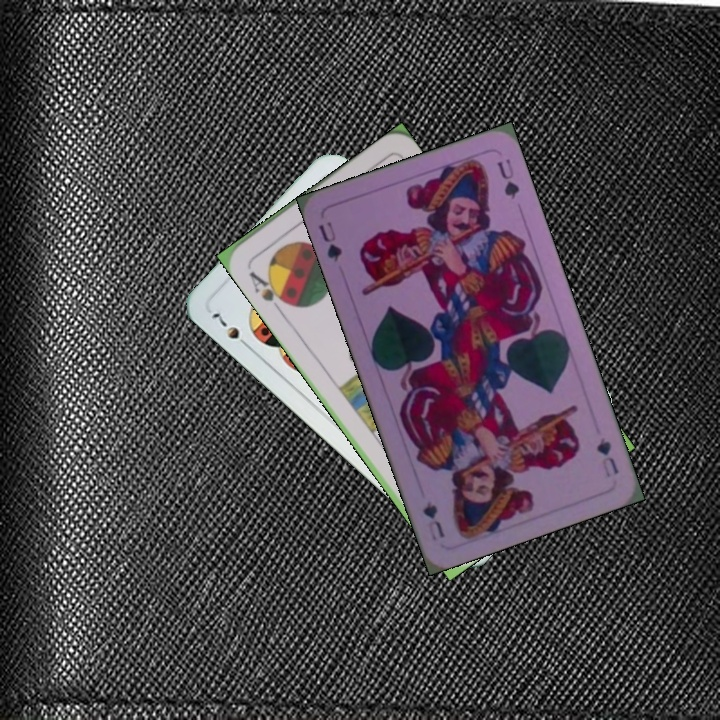GU: (314, 217, 345, 265), (592, 433, 622, 480)
S7: (206, 308, 253, 352)
SA: (245, 267, 292, 314)
